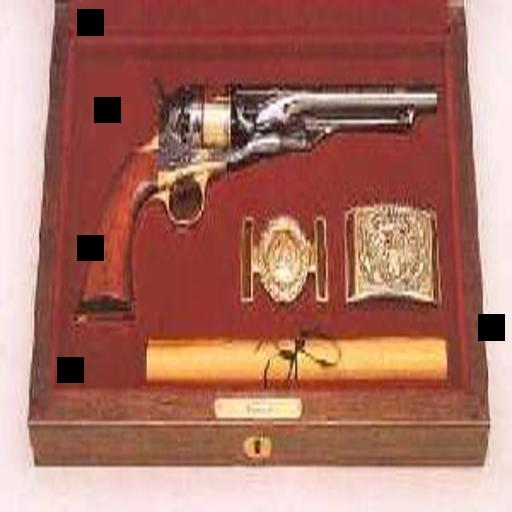Handgun: (74, 60, 441, 319)
